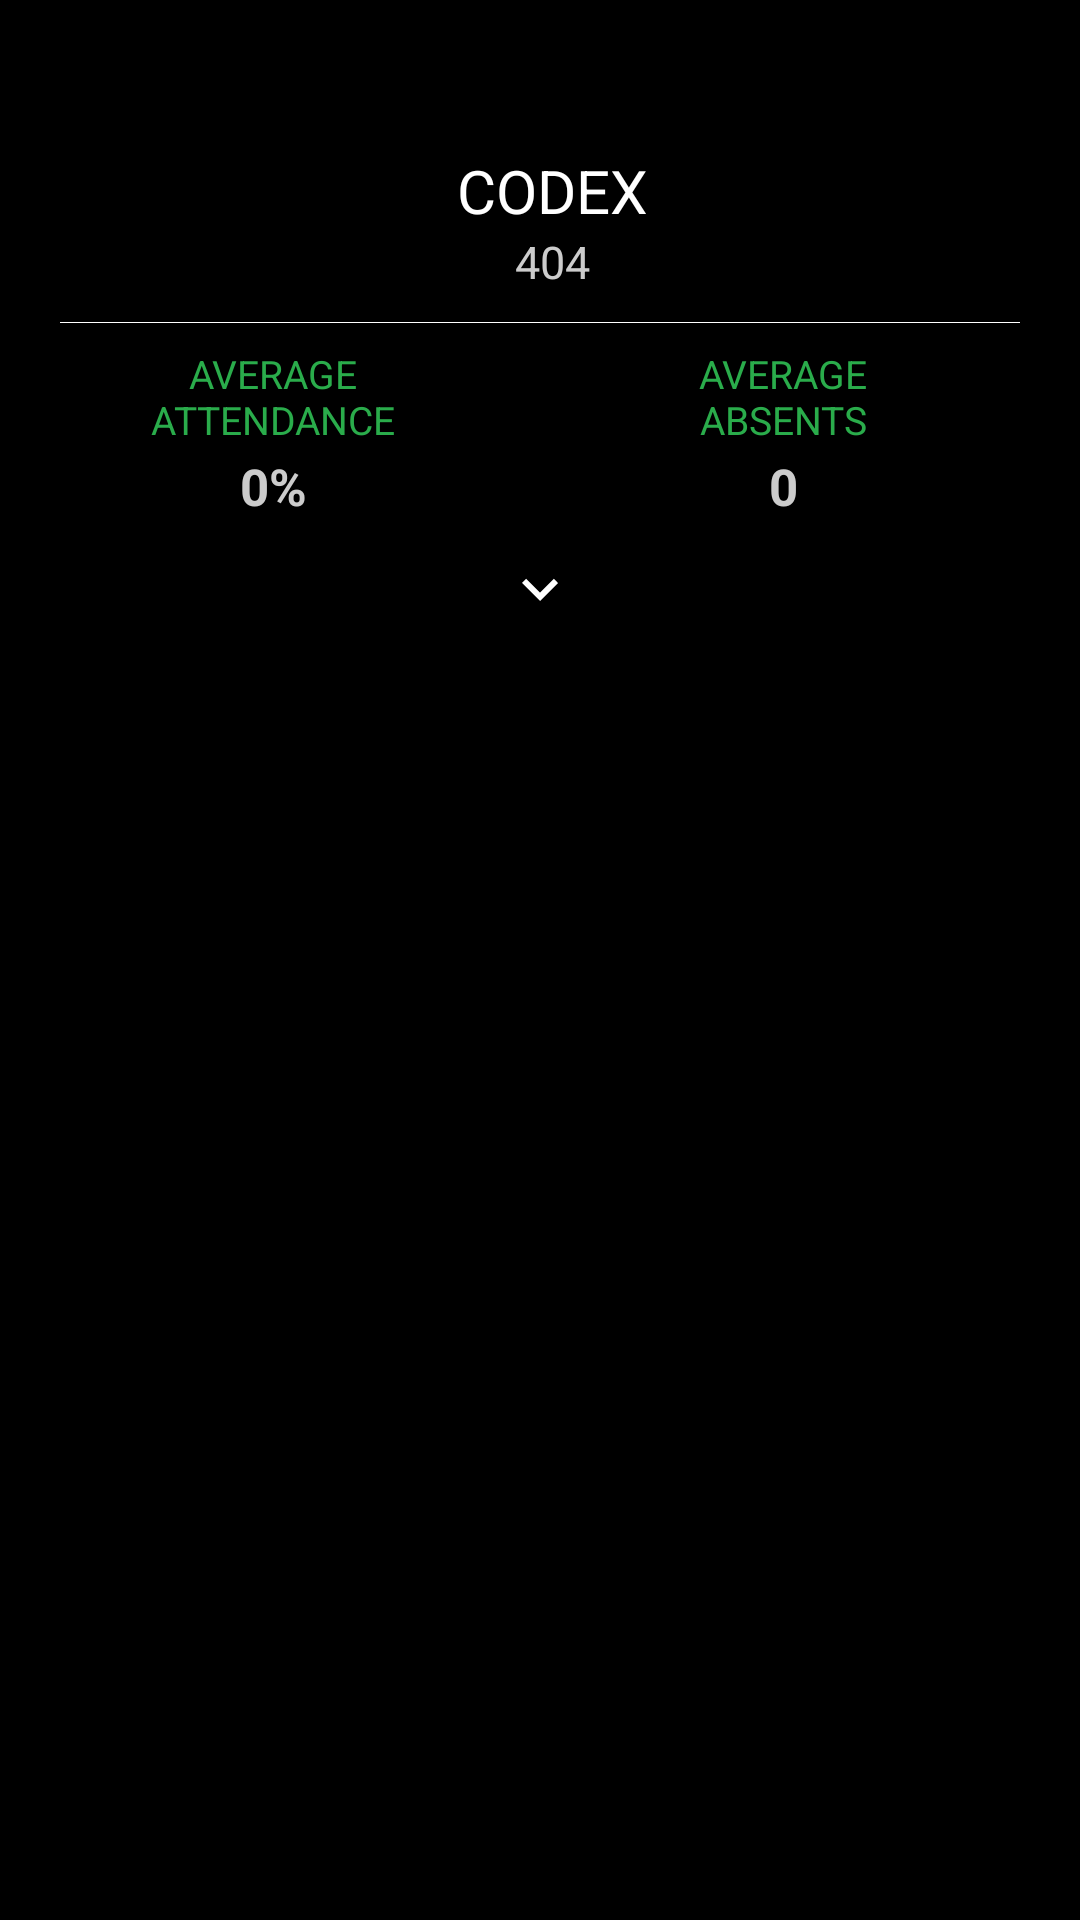

Icon bounding boxes for this 1080px x 1920px phone screenshot, format {"left": x1, "top": y1, "right": x2, "bottom": y2}:
arrow down: {"left": 522, "top": 579, "right": 558, "bottom": 601}
